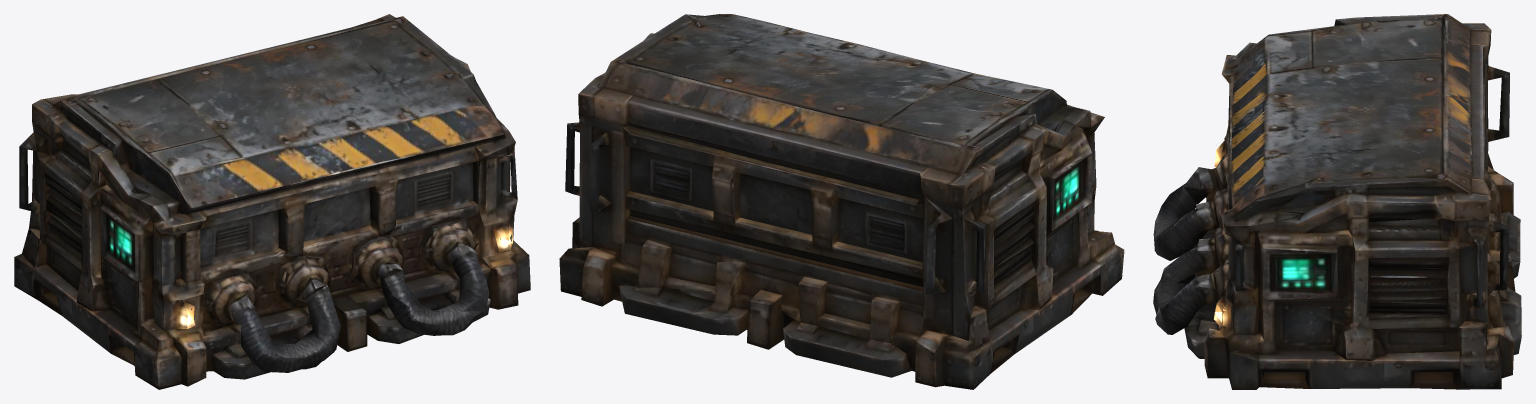
The model's file is tower_unit.glb.
3 renders of one model, left to right at view 1: azimuth 30°, elevation 25°; view 2: azimuth 150°, elevation 25°; view 3: azimuth 270°, elevation 25°, orthographic. The views are drawn at different scales.
Parts seen in each view (by area): view 1: tower_unit; view 2: tower_unit; view 3: tower_unit.
Part boxes in pixels (x1,y1,x2,y2): tower_unit: (14, 14, 530, 389); tower_unit: (559, 14, 1124, 389); tower_unit: (1153, 14, 1521, 389).
Bounding box in the file's own units: 3.02 × 1.49 × 2.45.
1 material, 1 textured.
